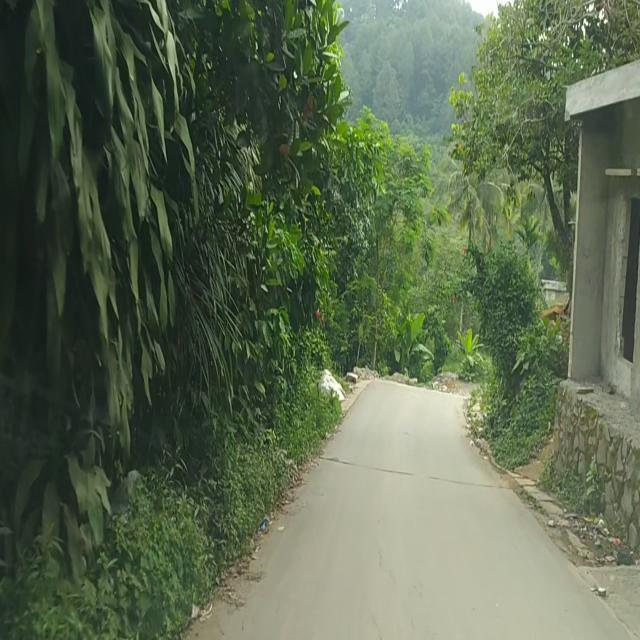Sewer Cover: (319, 456, 510, 492)
